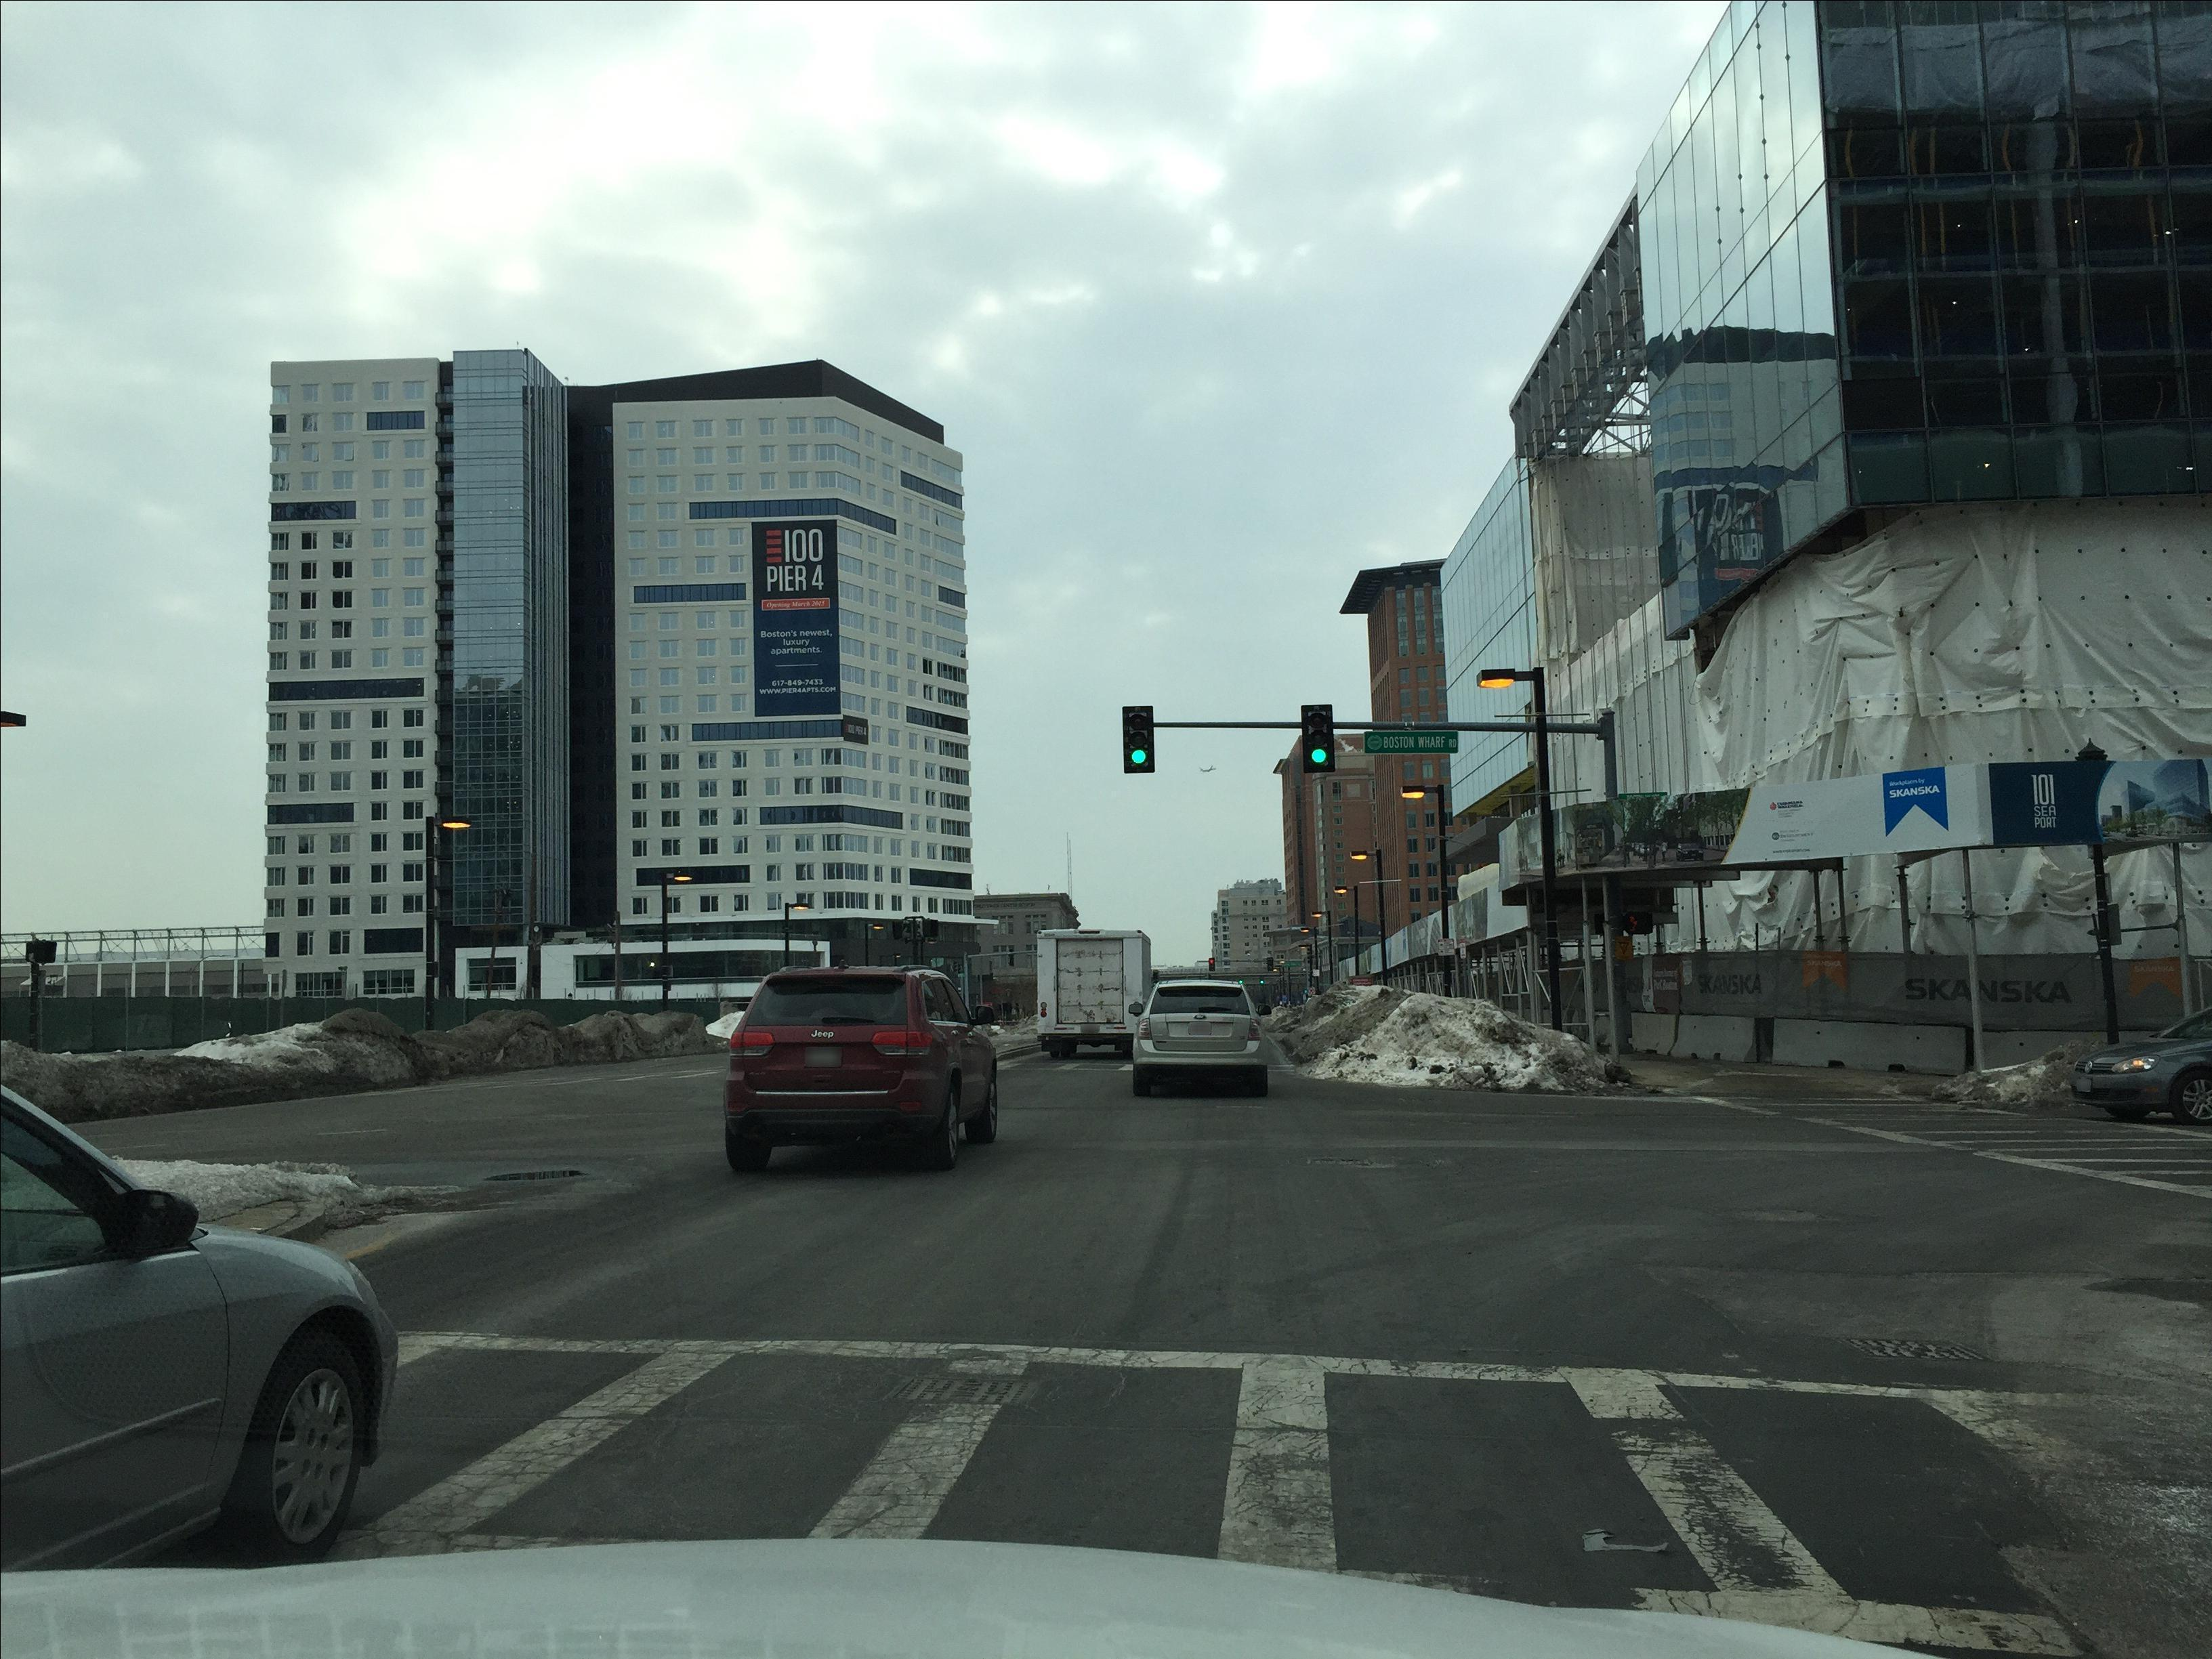vinyl banner: (1558, 948, 2212, 1030), (744, 505, 854, 727)
